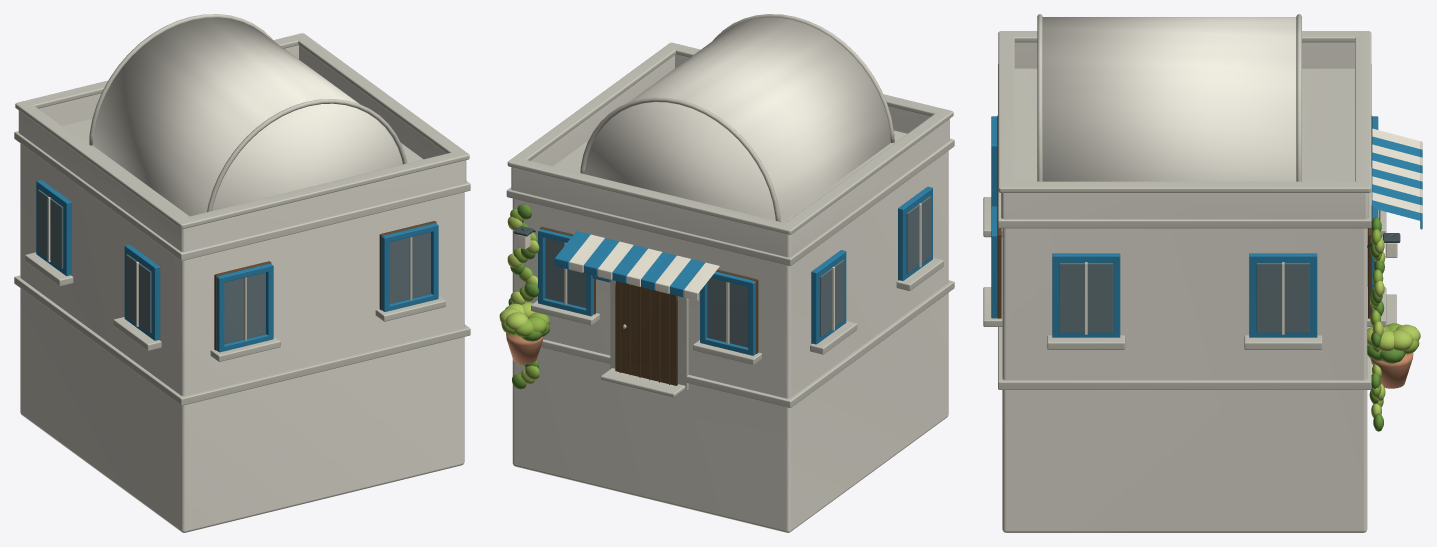
File: town_house_1_1.glb
3 views of the same model, side by side, from view 1: azimuth 30°, elevation 25°; view 2: azimuth 150°, elevation 25°; view 3: azimuth 270°, elevation 25° (orthographic). The views are drawn at different scales.
Visible parts, largest first — view 1: TownHouse1_1_Geometry; view 2: TownHouse1_1_Geometry; view 3: TownHouse1_1_Geometry.
Boxes of the visible parts, x1,y1,x2,y2 form: TownHouse1_1_Geometry: (14, 14, 470, 532); TownHouse1_1_Geometry: (499, 14, 954, 532); TownHouse1_1_Geometry: (983, 14, 1422, 532).
Size of the model in its own units: 6.62 by 7.82 by 7.22.
